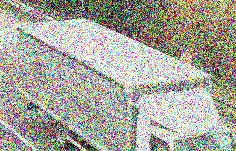truck: (17, 18, 235, 150)
